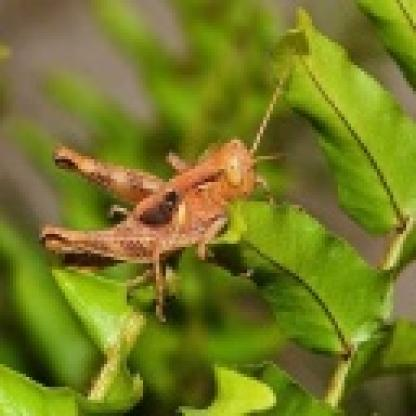grasshopper: (43, 131, 278, 277)
